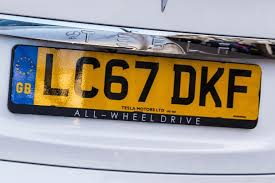number_plate: (9, 40, 265, 136)
